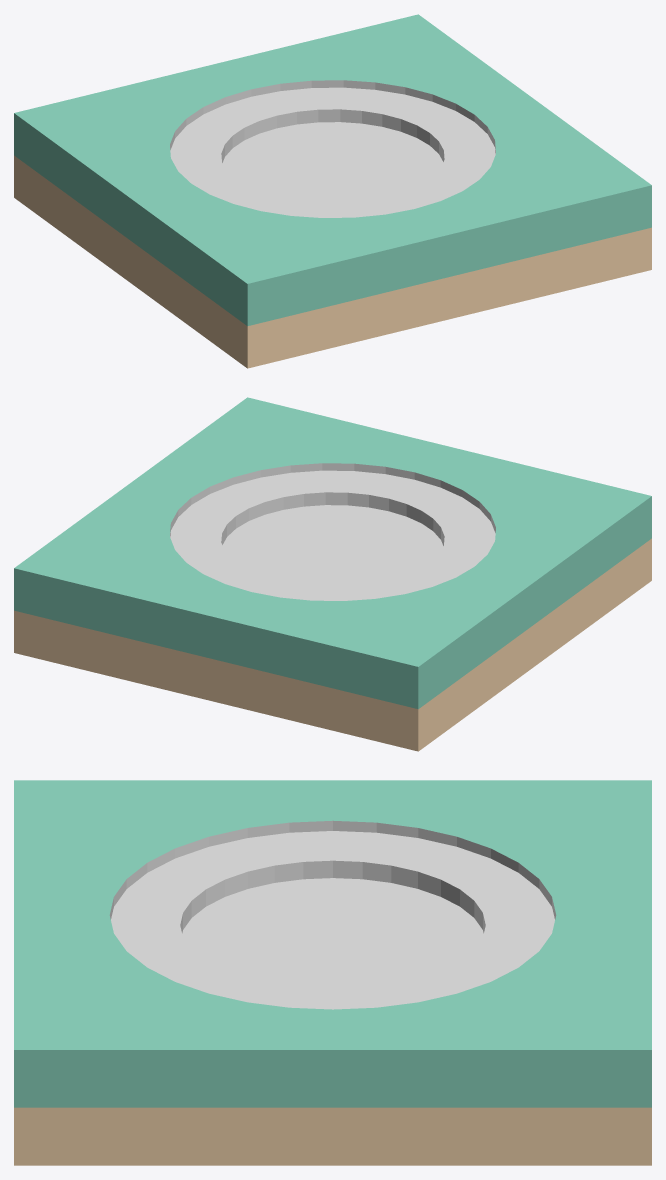
File: Teleporter.fbx
3 views of the same model, one above another, from view 1: azimuth 30°, elevation 25°; view 2: azimuth 150°, elevation 25°; view 3: azimuth 270°, elevation 25° (orthographic). The views are drawn at different scales.
Parts seen in each view (by area): view 1: tile; view 2: tile; view 3: tile.
Boxes of the visible parts, left/top/right/bottom form: tile: left=14, top=14, right=651, bottom=368; tile: left=14, top=397, right=651, bottom=751; tile: left=14, top=780, right=651, bottom=1165.
Size of the model in its own units: 100 by 20 by 100.
